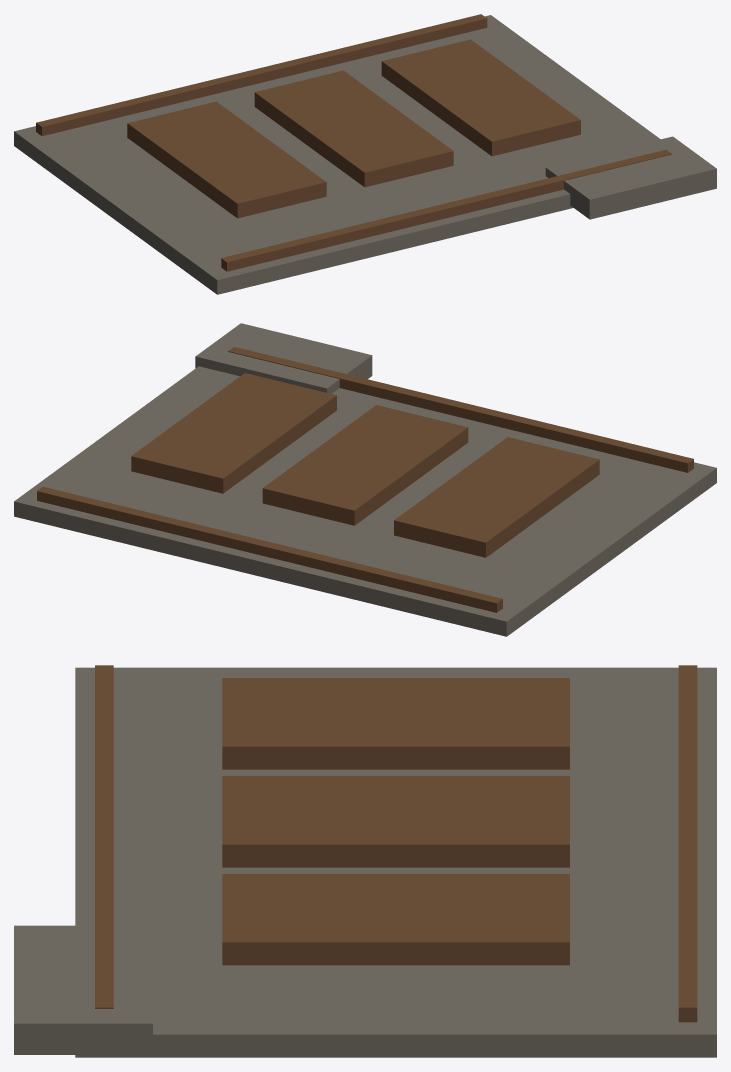
Rendered from oyster-beds.source.glb.
The picture shows the model from 3 angles, top to bottom: view 1: azimuth 30°, elevation 25°; view 2: azimuth 150°, elevation 25°; view 3: azimuth 270°, elevation 25°; orthographic projection. The views are drawn at different scales.
Visible parts, largest first — view 1: oyster-beds-shore-mesh, oyster-beds-bed-2-mesh, oyster-beds-bed--2-mesh, oyster-beds-bed-0-mesh, oyster-beds-shore-ramp-mesh, oyster-beds-edge--2.52-mesh, oyster-beds-edge-2.52-mesh; view 2: oyster-beds-shore-mesh, oyster-beds-bed-0-mesh, oyster-beds-bed--2-mesh, oyster-beds-bed-2-mesh, oyster-beds-edge--2.52-mesh, oyster-beds-edge-2.52-mesh, oyster-beds-shore-ramp-mesh; view 3: oyster-beds-shore-mesh, oyster-beds-bed--2-mesh, oyster-beds-bed-0-mesh, oyster-beds-bed-2-mesh, oyster-beds-shore-ramp-mesh, oyster-beds-edge--2.52-mesh, oyster-beds-edge-2.52-mesh.
Boxes of the visible parts, <box> form: oyster-beds-shore-mesh: <box>14,15,660,294</box>; oyster-beds-bed-2-mesh: <box>381,39,580,156</box>; oyster-beds-bed--2-mesh: <box>127,101,326,218</box>; oyster-beds-bed-0-mesh: <box>254,70,453,187</box>; oyster-beds-shore-ramp-mesh: <box>545,136,716,219</box>; oyster-beds-edge--2.52-mesh: <box>36,14,487,136</box>; oyster-beds-edge-2.52-mesh: <box>221,149,672,271</box>; oyster-beds-shore-mesh: <box>14,366,716,636</box>; oyster-beds-bed-0-mesh: <box>262,405,468,525</box>; oyster-beds-bed--2-mesh: <box>394,437,599,557</box>; oyster-beds-bed-2-mesh: <box>131,373,336,493</box>; oyster-beds-edge--2.52-mesh: <box>37,486,502,612</box>; oyster-beds-edge-2.52-mesh: <box>228,346,693,472</box>; oyster-beds-shore-ramp-mesh: <box>195,323,372,393</box>; oyster-beds-shore-mesh: <box>75,667,716,1057</box>; oyster-beds-bed--2-mesh: <box>222,678,569,769</box>; oyster-beds-bed-0-mesh: <box>222,776,569,867</box>; oyster-beds-bed-2-mesh: <box>222,874,569,965</box>; oyster-beds-shore-ramp-mesh: <box>14,925,152,1054</box>; oyster-beds-edge--2.52-mesh: <box>678,665,697,1022</box>; oyster-beds-edge-2.52-mesh: <box>95,665,113,1008</box>.
Bounding box in the file's own units: 7.55 × 0.61 × 6.07.
